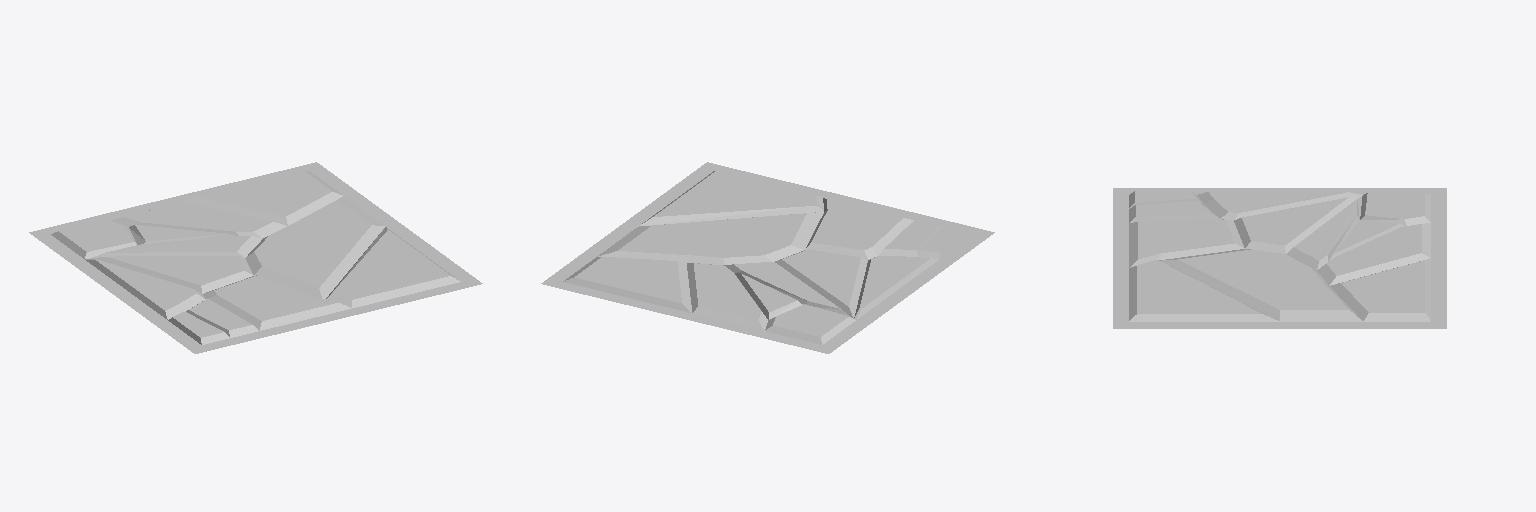
File: floor_v2.obj
The picture shows the model from 3 angles: view 1: azimuth 30°, elevation 25°; view 2: azimuth 150°, elevation 25°; view 3: azimuth 270°, elevation 25°; orthographic projection.
Visible parts, largest first — view 1: floor_v2_Plane.001; view 2: floor_v2_Plane.001; view 3: floor_v2_Plane.001.
Part boxes in pixels (x1,y1,x2,y2): floor_v2_Plane.001: (29,162,482,353); floor_v2_Plane.001: (541,162,994,353); floor_v2_Plane.001: (1113,188,1446,328).
Bounding box in the file's own units: 2 × 0.0316 × 2.